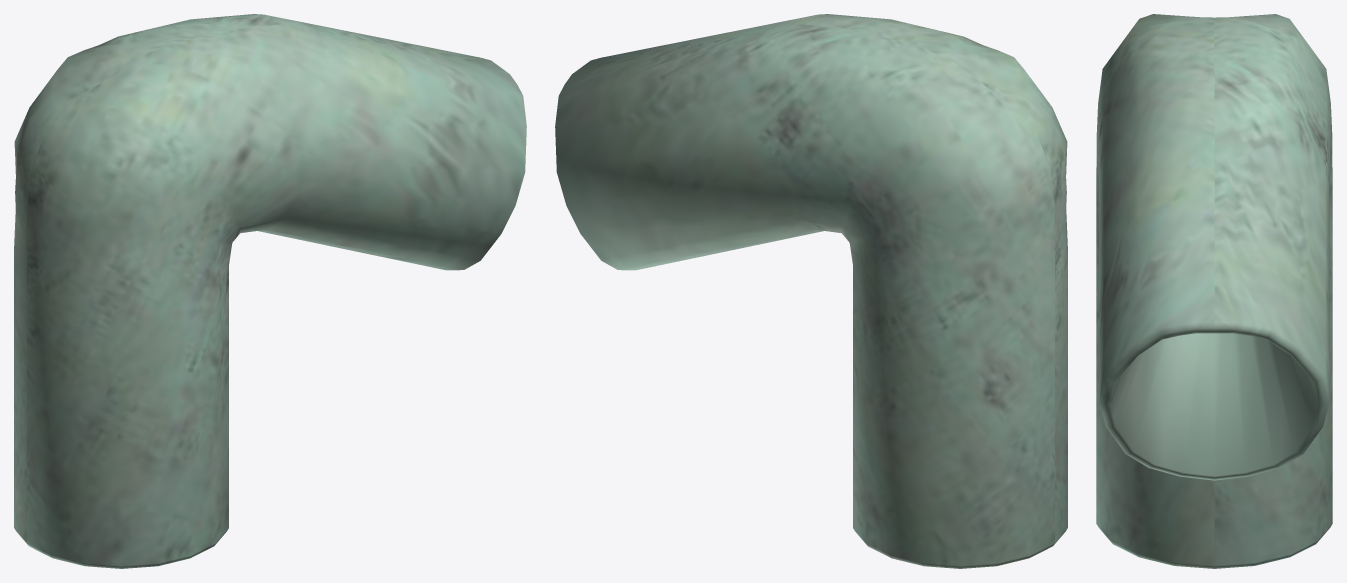
The model's file is Pipe05-model.fbx.
3 views of the same model, side by side, from view 1: azimuth 30°, elevation 25°; view 2: azimuth 150°, elevation 25°; view 3: azimuth 270°, elevation 25° (orthographic). The views are drawn at different scales.
Parts seen in each view (by area): view 1: elbow_down; view 2: elbow_down; view 3: elbow_down.
Boxes of the visible parts, left/top/right/bottom form: elbow_down: left=14, top=14, right=526, bottom=568; elbow_down: left=555, top=14, right=1067, bottom=568; elbow_down: left=1096, top=14, right=1332, bottom=568.
Bounding box in the file's own units: 9.61 × 9.13 × 3.77.
Materials: 1 (1 with a texture image).
